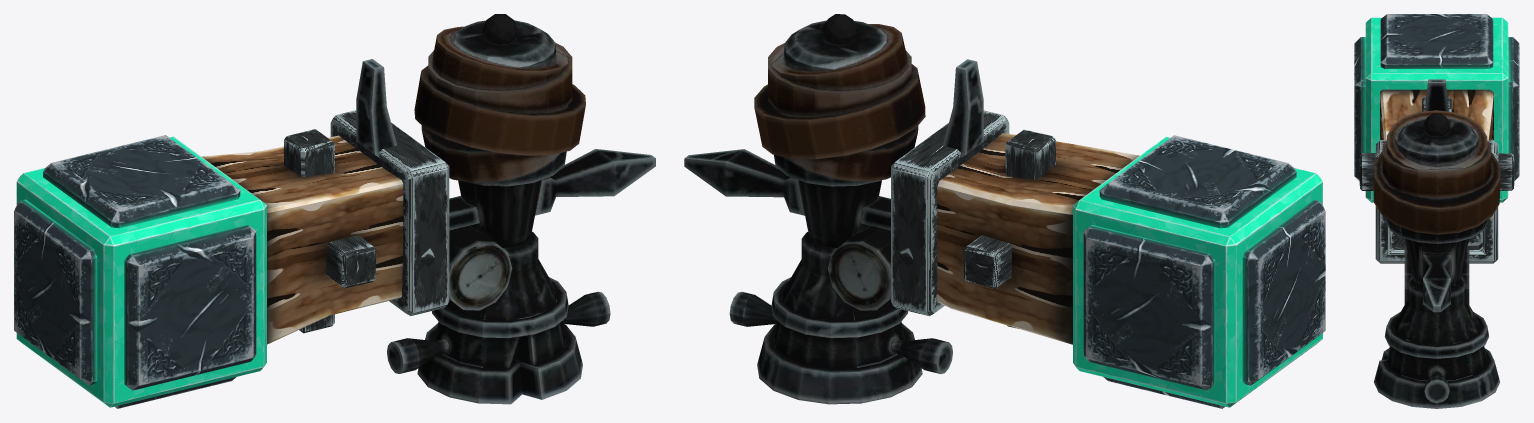
The model's file is step_003.glb.
The picture shows the model from 3 angles, left to right: view 1: azimuth 30°, elevation 25°; view 2: azimuth 150°, elevation 25°; view 3: azimuth 270°, elevation 25°; orthographic projection. The views are drawn at different scales.
Parts seen in each view (by area): view 1: WaterCannon_928be653-e0f6-4d7b-a0d6-11e07984c832, StartingBlock_fc748b3c-a139-43a2-b383-b3f7f1111932, SingleWoodenBlock_72c407a8-6651-450a-8bd4-af0f65df91eb; view 2: WaterCannon_928be653-e0f6-4d7b-a0d6-11e07984c832, StartingBlock_fc748b3c-a139-43a2-b383-b3f7f1111932, SingleWoodenBlock_72c407a8-6651-450a-8bd4-af0f65df91eb; view 3: WaterCannon_928be653-e0f6-4d7b-a0d6-11e07984c832, StartingBlock_fc748b3c-a139-43a2-b383-b3f7f1111932, SingleWoodenBlock_72c407a8-6651-450a-8bd4-af0f65df91eb.
Boxes of the visible parts, x1,y1,x2,y2 form: WaterCannon_928be653-e0f6-4d7b-a0d6-11e07984c832: (356,14,655,404); StartingBlock_fc748b3c-a139-43a2-b383-b3f7f1111932: (14,135,266,408); SingleWoodenBlock_72c407a8-6651-450a-8bd4-af0f65df91eb: (201,110,449,344); WaterCannon_928be653-e0f6-4d7b-a0d6-11e07984c832: (684,14,983,404); StartingBlock_fc748b3c-a139-43a2-b383-b3f7f1111932: (1073,135,1325,408); SingleWoodenBlock_72c407a8-6651-450a-8bd4-af0f65df91eb: (891,110,1139,344); WaterCannon_928be653-e0f6-4d7b-a0d6-11e07984c832: (1373,79,1500,408); StartingBlock_fc748b3c-a139-43a2-b383-b3f7f1111932: (1354,14,1519,202); SingleWoodenBlock_72c407a8-6651-450a-8bd4-af0f65df91eb: (1359,89,1514,263).
Size of the model in its own units: 3.62 by 2.03 by 1.13.
3 materials, 3 textured.
